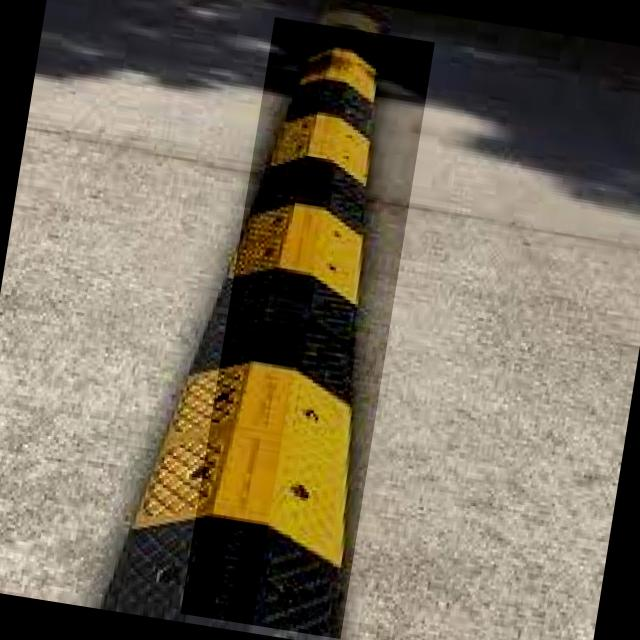bump: (180, 17, 434, 639)
